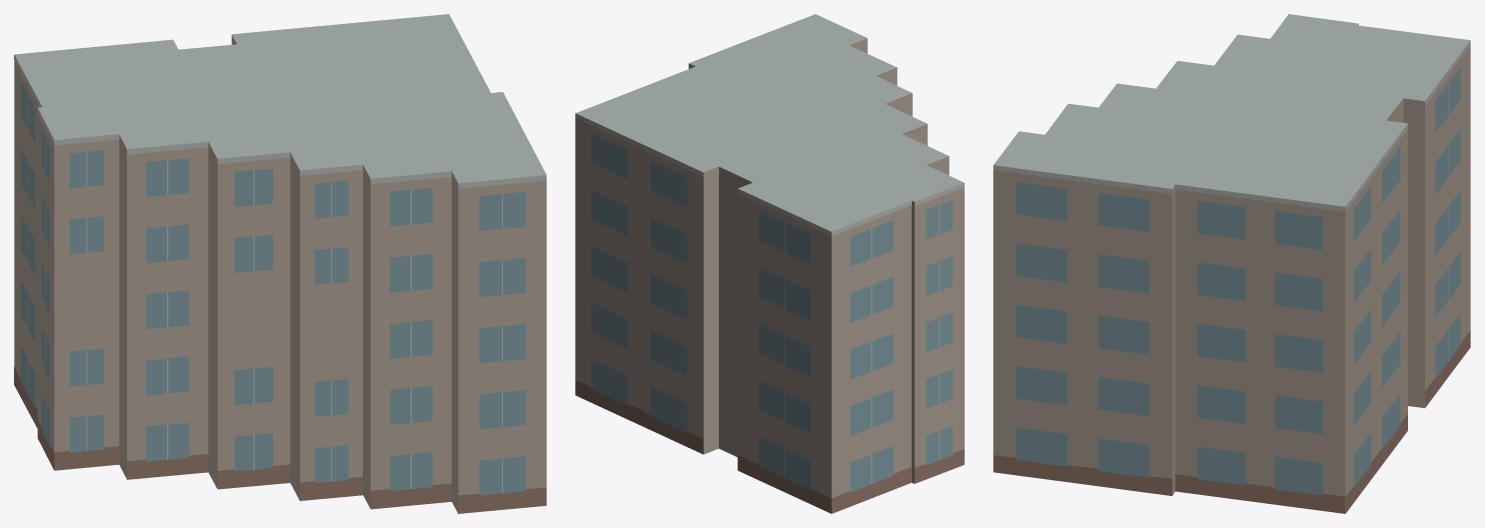
File: survey-upis-32936830.glb
3 views of the same model, side by side, from view 1: azimuth 30°, elevation 25°; view 2: azimuth 150°, elevation 25°; view 3: azimuth 270°, elevation 25° (orthographic). The views are drawn at different scales.
Parts seen in each view (by area): view 1: survey-upis-32936830.tmp; view 2: survey-upis-32936830.tmp; view 3: survey-upis-32936830.tmp.
Part boxes in pixels (left/top/right/bottom): survey-upis-32936830.tmp: left=14, top=14, right=546, bottom=513; survey-upis-32936830.tmp: left=575, top=14, right=964, bottom=513; survey-upis-32936830.tmp: left=993, top=14, right=1470, bottom=513.
Bounding box in the file's own units: 20.08 × 14.9 × 21.
